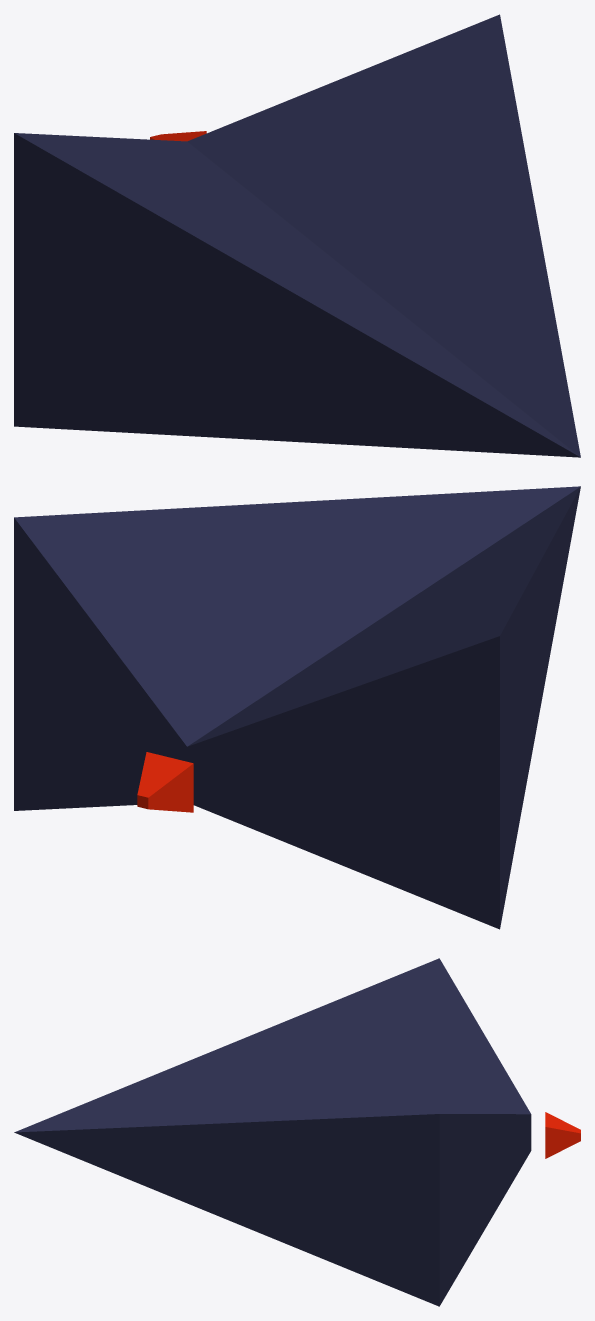
File: shiptest@walking.glb
3 renders of one model, top to bottom at view 1: azimuth 30°, elevation 25°; view 2: azimuth 150°, elevation 25°; view 3: azimuth 270°, elevation 25°, orthographic. The views are drawn at different scales.
Parts seen in each view (by area): view 1: Cone; view 2: Cone, Cube; view 3: Cone, Cube.
Boxes of the visible parts, x1,y1,x2,y2 form: Cone: (14,14,580,457); Cone: (14,486,580,929); Cube: (137,752,193,812); Cone: (14,958,531,1306); Cube: (545,1112,580,1158).
Bounding box in the file's own units: 0.7466 × 0.431 × 1.15.
